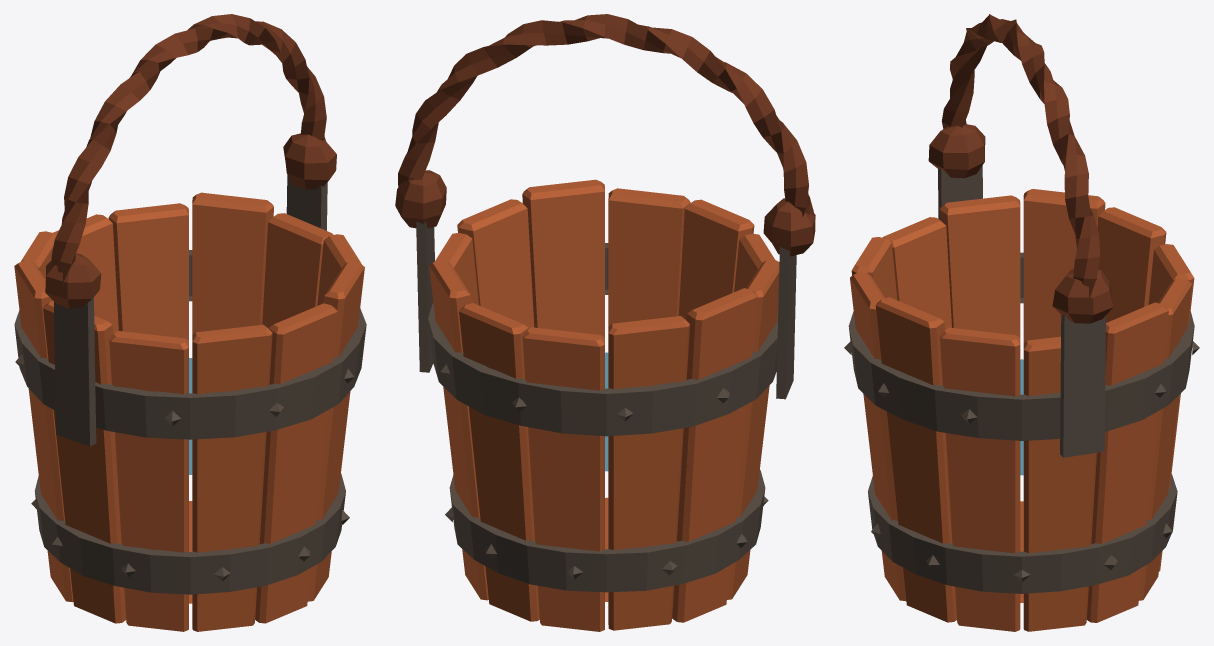
File: water-bucket-partial.glb
3 renders of one model, left to right at view 1: azimuth 30°, elevation 25°; view 2: azimuth 150°, elevation 25°; view 3: azimuth 270°, elevation 25°, orthographic. The views are drawn at different scales.
Parts seen in each view (by area): view 1: staves, hoops, rope_handle, ears, rope_knots, rivets; view 2: staves, hoops, rope_handle, ears, rope_knots, rivets; view 3: staves, hoops, rope_handle, ears, rope_knots, rivets.
Boxes of the visible parts, x1=… form: staves: x1=14, y1=192, x2=364, y2=631; hoops: x1=14, y1=250, x2=366, y2=594; rope_handle: x1=51, y1=14, x2=326, y2=282; ears: x1=54, y1=175, x2=327, y2=446; rope_knots: x1=45, y1=133, x2=336, y2=308; rivets: x1=15, y1=354, x2=354, y2=581; staves: x1=429, y1=179, x2=779, y2=631; hoops: x1=428, y1=243, x2=778, y2=592; rope_handle: x1=398, y1=14, x2=815, y2=218; ears: x1=416, y1=221, x2=796, y2=399; rope_knots: x1=395, y1=170, x2=815, y2=256; rivets: x1=440, y1=364, x2=768, y2=579; staves: x1=850, y1=189, x2=1194, y2=631; hoops: x1=848, y1=252, x2=1194, y2=593; rope_handle: x1=941, y1=14, x2=1099, y2=299; ears: x1=938, y1=165, x2=1105, y2=457; rope_knots: x1=928, y1=124, x2=1113, y2=323; rivets: x1=844, y1=341, x2=1199, y2=581.
Size of the model in its own units: 0.4135 by 0.6241 by 0.371.
